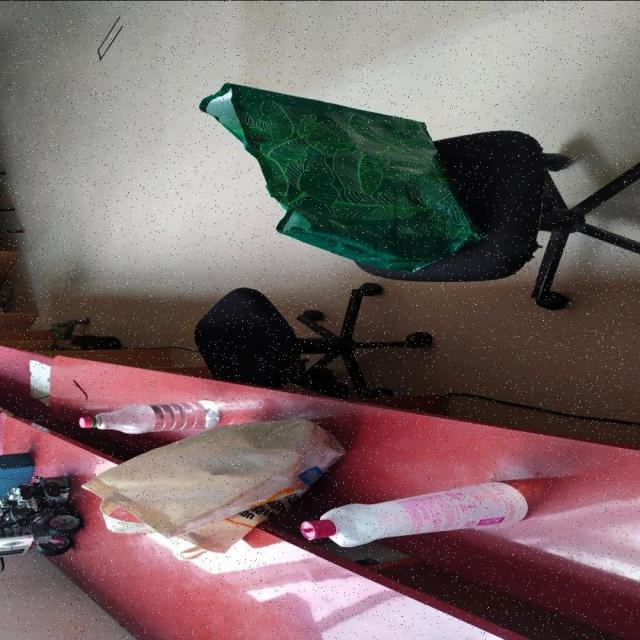Bag: (205, 78, 490, 275), (76, 416, 360, 562)
